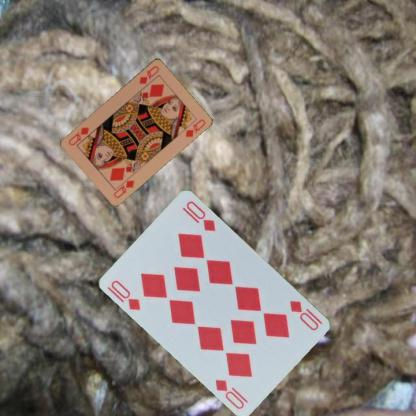10d: (287, 298, 324, 332), (109, 278, 142, 312)
Qd: (111, 172, 135, 200), (136, 62, 161, 85)
